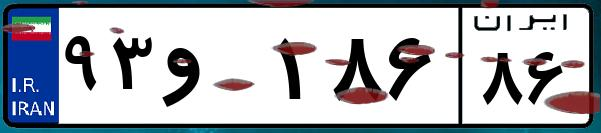1: (270, 28, 330, 110)
3: (110, 28, 158, 98)
6: (385, 28, 445, 110), (525, 38, 570, 115)
8: (330, 28, 385, 110), (475, 38, 525, 113)
9: (57, 26, 110, 100)
و: (158, 20, 270, 120)
